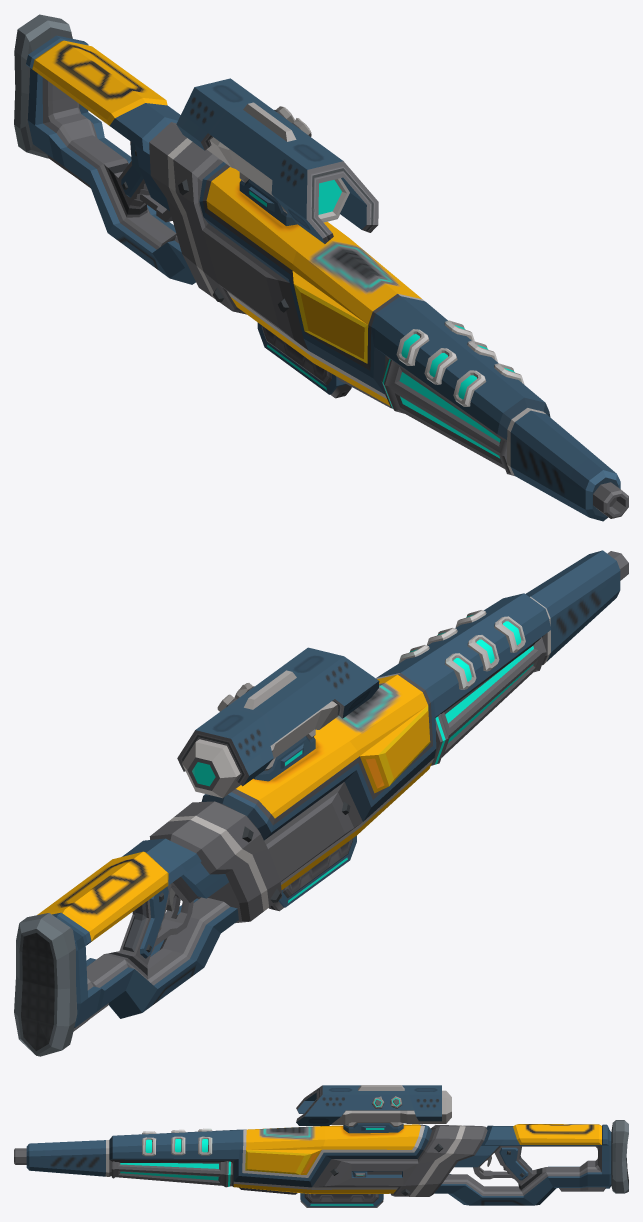
The model's file is SM_Wep_Sniper_Rifle_01.fbx.
3 views of the same model, one above another, from view 1: azimuth 30°, elevation 25°; view 2: azimuth 150°, elevation 25°; view 3: azimuth 270°, elevation 25° (orthographic). The views are drawn at different scales.
Parts seen in each view (by area): view 1: SM_Wep_Sniper_Rifle_01, SM_Wep_Sniper_Rifle_Scope_01, SM_Wep_Sniper_Rifle_Magazine_01; view 2: SM_Wep_Sniper_Rifle_01, SM_Wep_Sniper_Rifle_Scope_01, SM_Wep_Sniper_Rifle_Magazine_01; view 3: SM_Wep_Sniper_Rifle_01, SM_Wep_Sniper_Rifle_Scope_01, SM_Wep_Sniper_Rifle_Magazine_01, SM_Wep_Sniper_Rifle_Slide_01.
Boxes of the visible parts, box(x1,y1,x2,y2) form: SM_Wep_Sniper_Rifle_01: box(14, 14, 628, 521); SM_Wep_Sniper_Rifle_Scope_01: box(176, 78, 378, 243); SM_Wep_Sniper_Rifle_Magazine_01: box(257, 322, 351, 398); SM_Wep_Sniper_Rifle_01: box(14, 550, 628, 1056); SM_Wep_Sniper_Rifle_Scope_01: box(177, 647, 379, 798); SM_Wep_Sniper_Rifle_Magazine_01: box(269, 835, 356, 911); SM_Wep_Sniper_Rifle_01: box(14, 1120, 628, 1205); SM_Wep_Sniper_Rifle_Scope_01: box(296, 1085, 451, 1133); SM_Wep_Sniper_Rifle_Magazine_01: box(300, 1193, 383, 1207); SM_Wep_Sniper_Rifle_Slide_01: box(352, 1171, 401, 1177).
Bounding box in the file's own units: 15.36 × 39.27 × 182.
